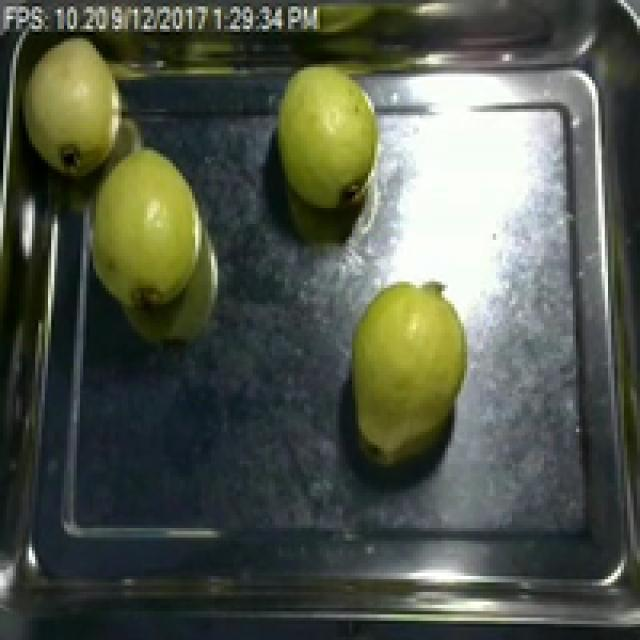Fruit: (74, 134, 224, 352), (339, 269, 477, 480), (0, 16, 138, 189), (269, 54, 390, 221)
